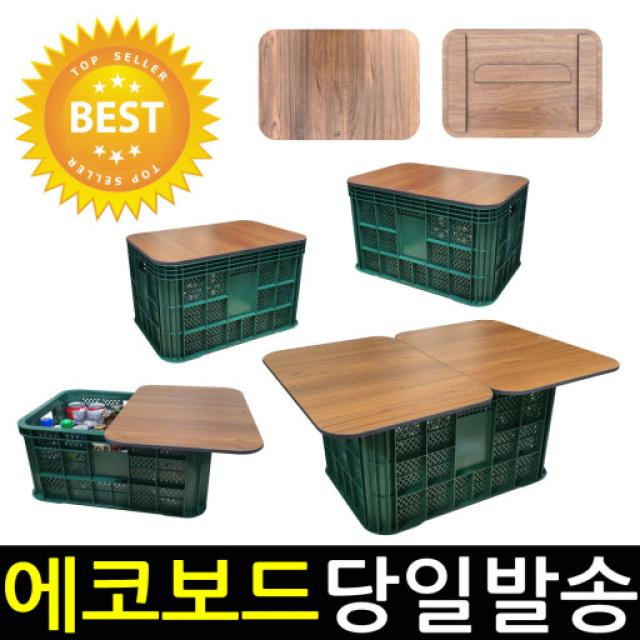basket: (314, 356, 584, 550), (126, 214, 316, 366), (13, 387, 213, 517), (348, 184, 528, 305)
